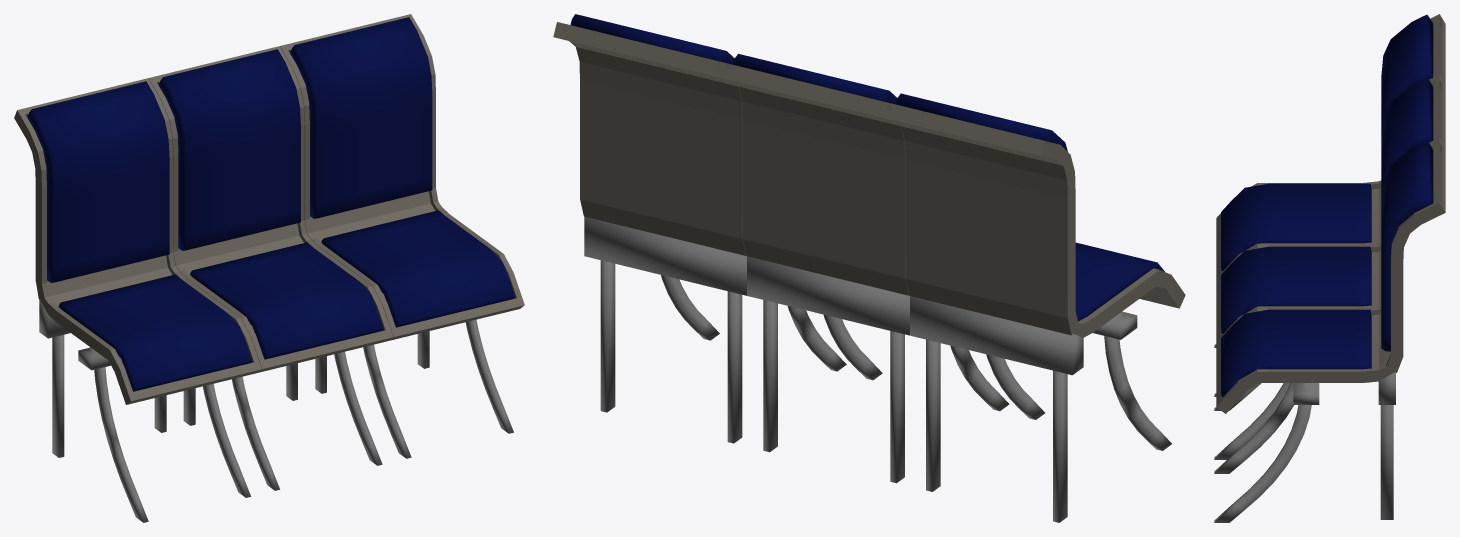
File: Hallway Seats 3.fbx
The picture shows the model from 3 angles, left to right: view 1: azimuth 30°, elevation 25°; view 2: azimuth 150°, elevation 25°; view 3: azimuth 270°, elevation 25°; orthographic projection. The views are drawn at different scales.
Parts seen in each view (by area): view 1: Hallway Seats 3; view 2: Hallway Seats 3; view 3: Hallway Seats 3.
Part boxes in pixels (left/top/right/bottom): Hallway Seats 3: left=14, top=14, right=524, bottom=522; Hallway Seats 3: left=553, top=14, right=1185, bottom=522; Hallway Seats 3: left=1214, top=14, right=1445, bottom=522.
Bounding box in the file's own units: 103 × 84.05 × 53.51.
